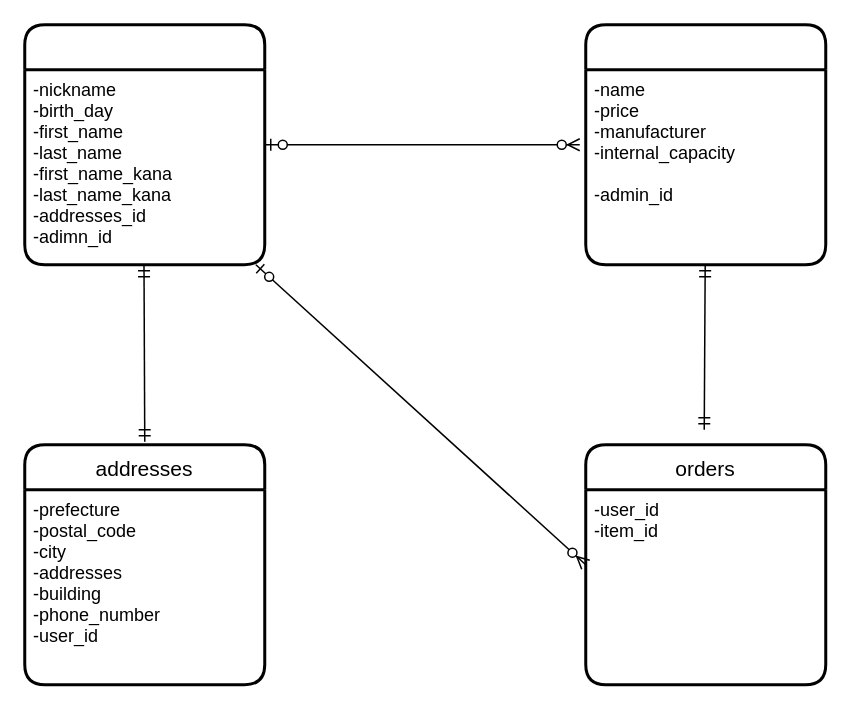
Image size: 851x710. Some labels were removed from this diagram. Each missing label, with the box of its shape:
items: (584, 22, 826, 266)
users: (22, 22, 266, 266)
